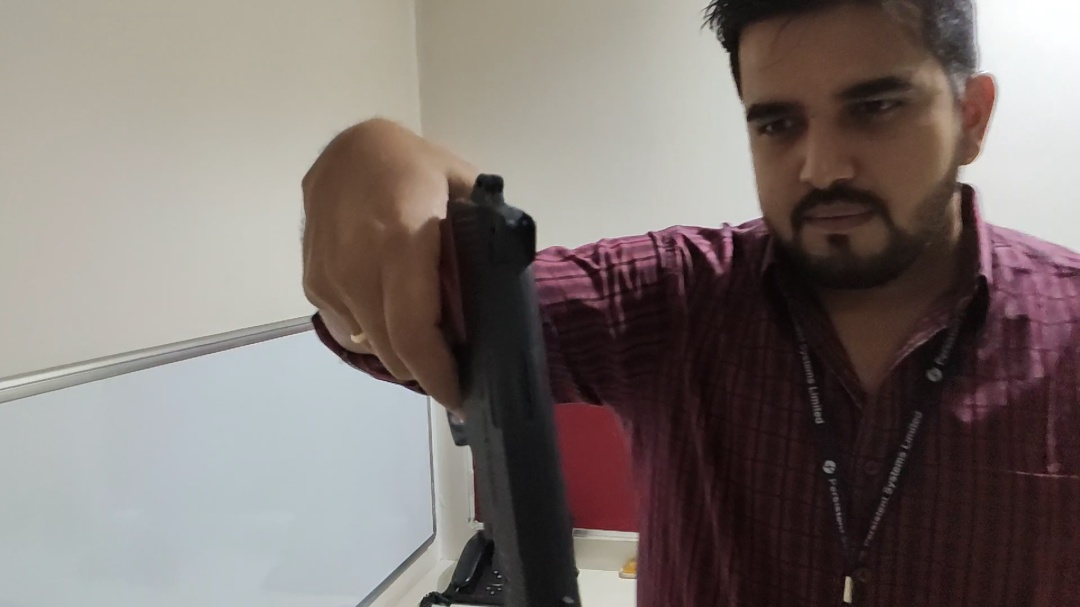gun: (389, 162, 620, 606)
